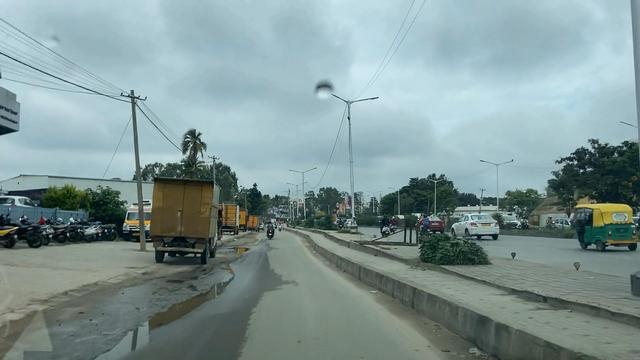HMV: (151, 177, 219, 261)
